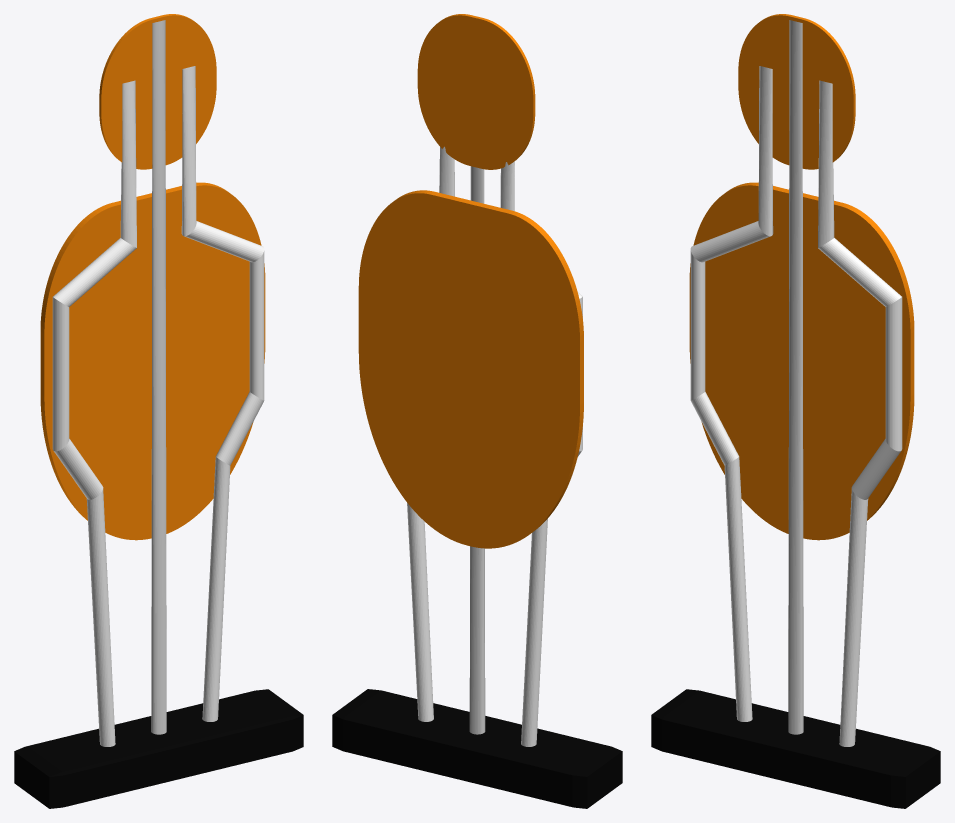
Rendered from wall.glb.
3 renders of one model, left to right at view 1: azimuth 30°, elevation 25°; view 2: azimuth 150°, elevation 25°; view 3: azimuth 330°, elevation 25°, orthographic.
Parts seen in each view (by area): view 1: Cube.001, Cylinder.004, Cube, Cube.002, Cylinder; view 2: Cube.001, Cube, Cube.002, Cylinder.004, Cylinder; view 3: Cube.001, Cylinder.004, Cube, Cube.002, Cylinder.
Part boxes in pixels (x1,y1,x2,y2): Cube.001: (40,182,265,540); Cylinder.004: (52,66,264,746); Cube: (14,689,303,808); Cube.002: (99,14,216,169); Cylinder: (151,20,166,734); Cube.001: (358,190,583,548); Cube: (332,689,622,808); Cube.002: (417,14,535,169); Cylinder.004: (407,146,582,746); Cylinder: (469,166,485,734); Cube.001: (689,182,914,540); Cylinder.004: (690,66,902,746); Cube: (651,689,940,808); Cube.002: (738,14,855,169); Cylinder: (788,20,803,734).
Bounding box in the file's own units: 0.75 × 2.11 × 0.2.
